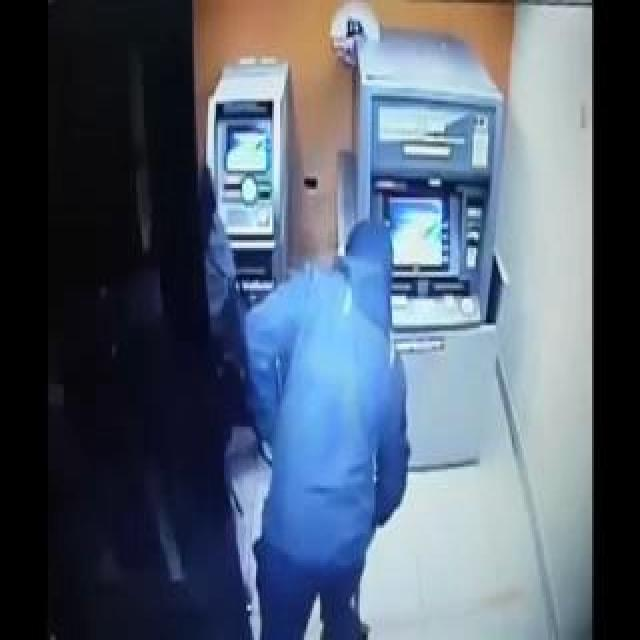thief: (298, 200, 404, 366), (175, 162, 256, 327)
